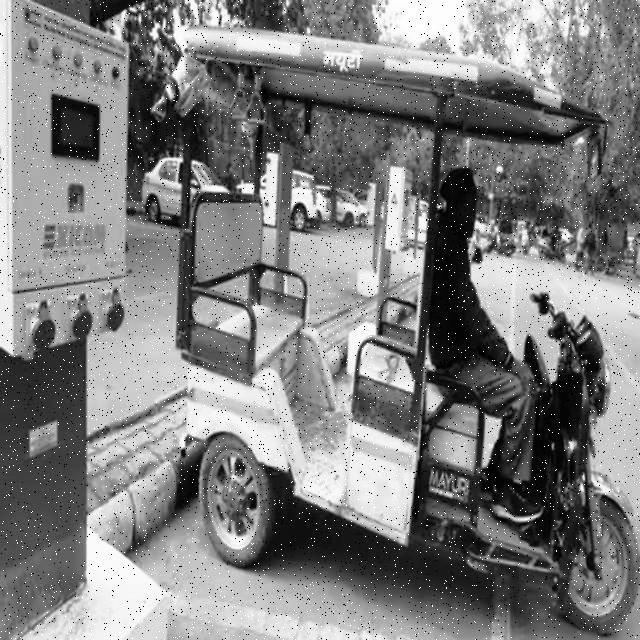Toto: (173, 20, 639, 635)
